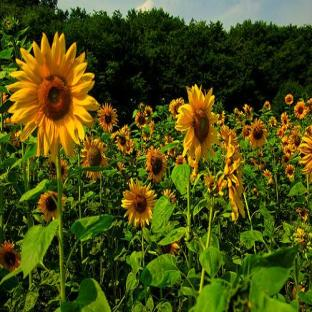sunflower: (8, 32, 100, 236)
